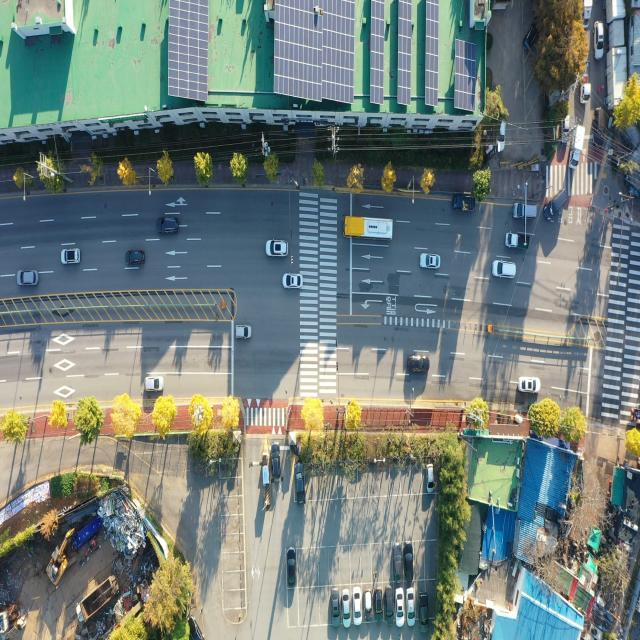car: (542, 184, 568, 220), (522, 20, 542, 56), (292, 462, 306, 508), (592, 105, 605, 151), (592, 19, 606, 61), (512, 200, 538, 220), (417, 590, 429, 633), (406, 354, 431, 373), (392, 542, 403, 585), (505, 232, 529, 251), (492, 262, 516, 280), (352, 585, 362, 627), (330, 586, 340, 628), (268, 239, 290, 258), (341, 588, 351, 628), (271, 440, 281, 480), (404, 542, 414, 582), (395, 587, 405, 627), (385, 585, 395, 625), (406, 587, 416, 626), (363, 586, 373, 625), (62, 247, 82, 265), (283, 273, 304, 290), (161, 216, 180, 234), (374, 586, 383, 624), (20, 270, 40, 287), (287, 551, 296, 587), (127, 249, 146, 266), (420, 252, 440, 268), (425, 462, 435, 494), (519, 378, 540, 393), (144, 377, 164, 392), (496, 114, 504, 151), (236, 324, 253, 339)
large_bus: (342, 216, 394, 240)
medium_truck: (73, 569, 124, 629), (581, 0, 592, 29)
small_truck: (567, 124, 586, 173), (452, 194, 477, 214), (581, 60, 591, 104)
